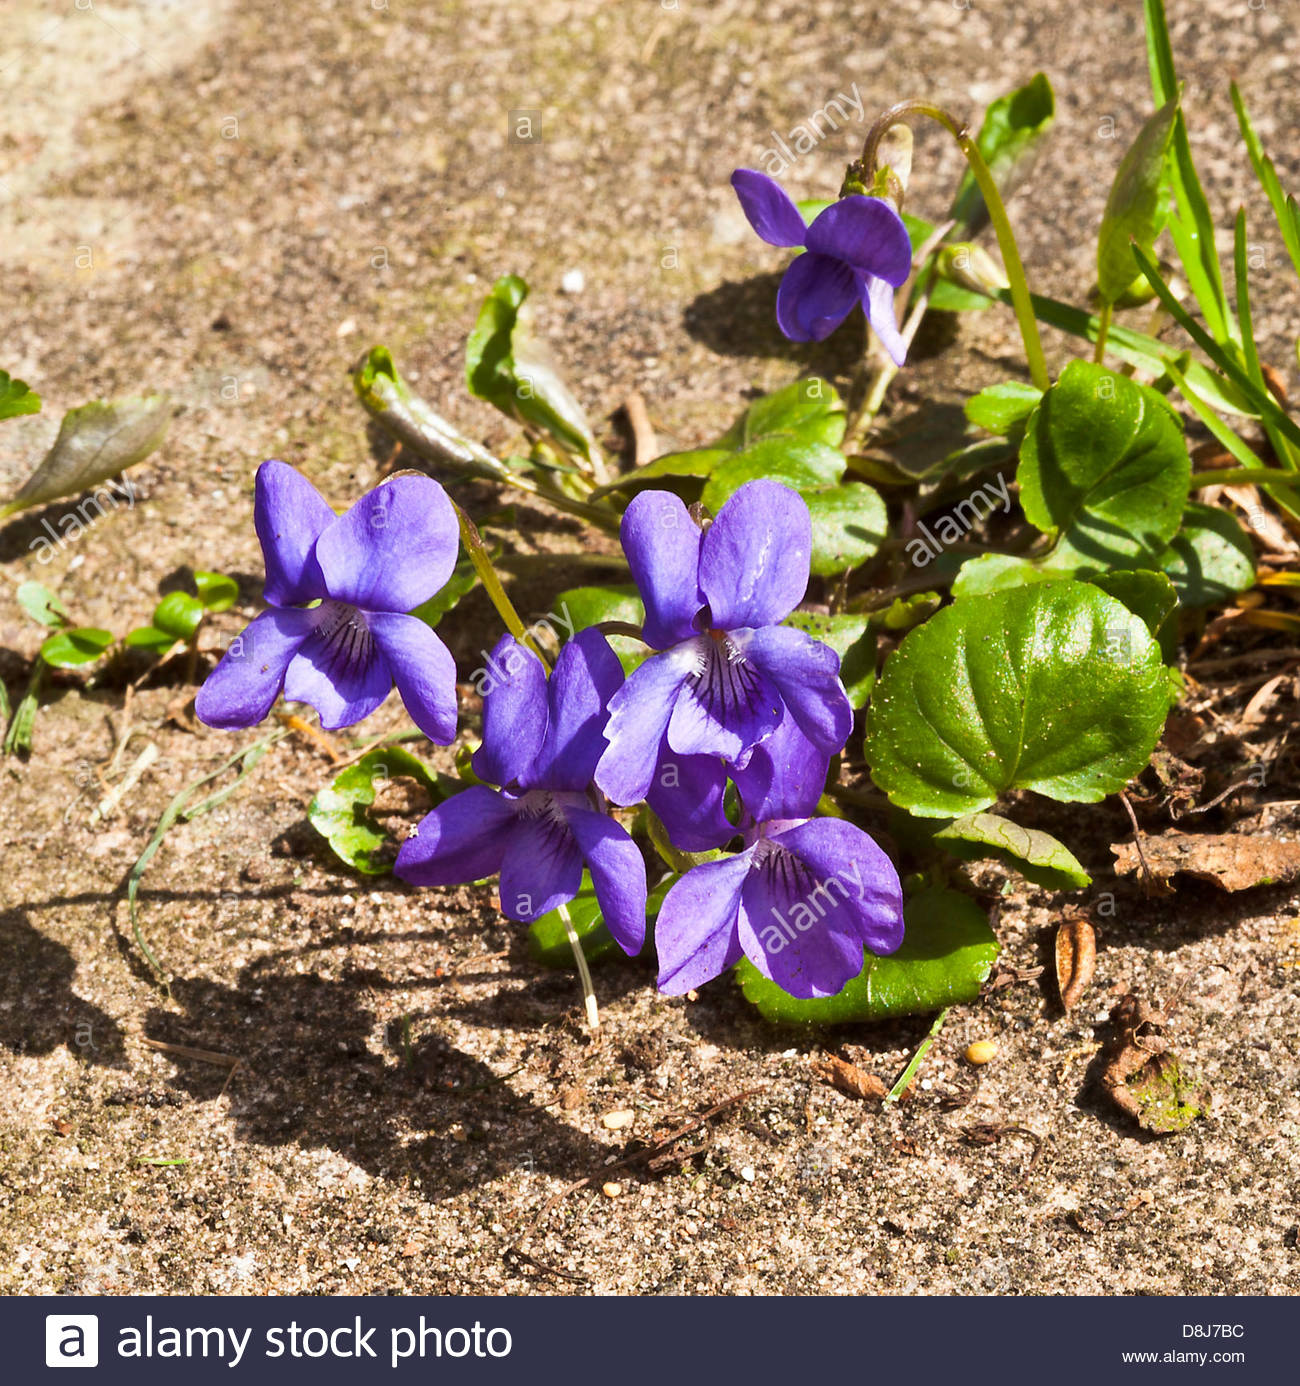violet: (424, 622, 659, 977), (206, 450, 474, 748), (637, 744, 905, 1000), (594, 482, 845, 739), (723, 164, 925, 356)
